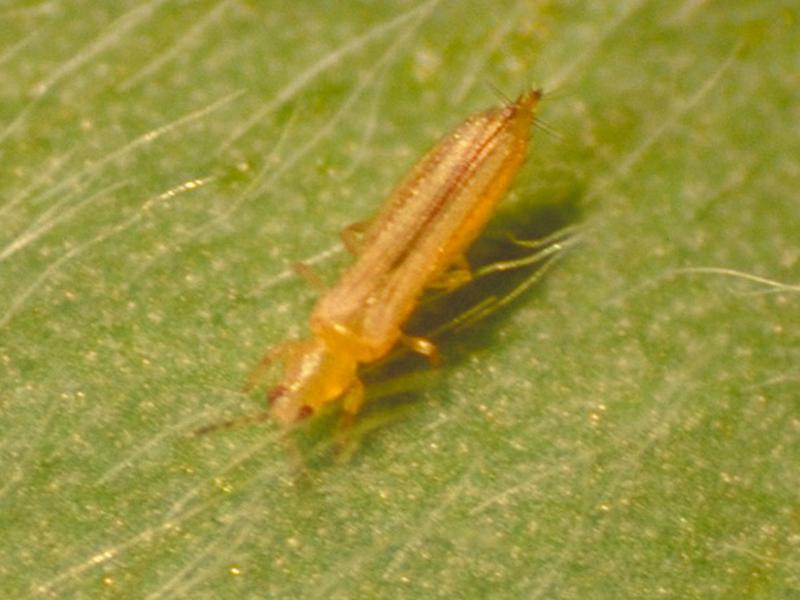Thrips: (248, 84, 547, 463)
